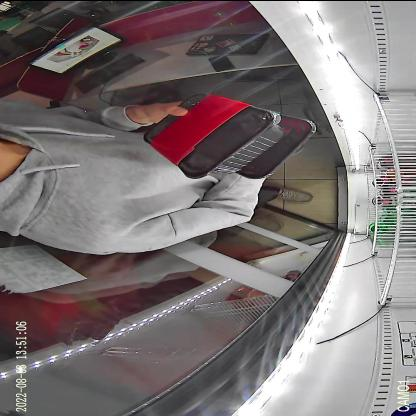red: (142, 91, 286, 178)
undefined: (235, 110, 317, 178)
